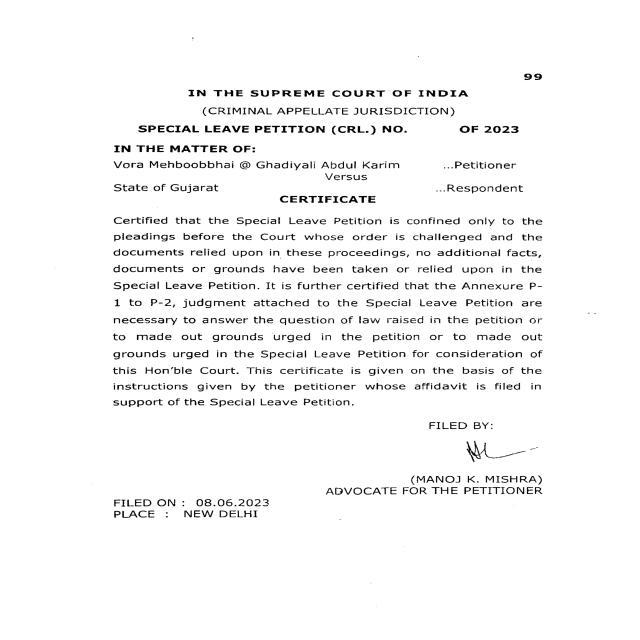page-number: (476, 33, 634, 119)
